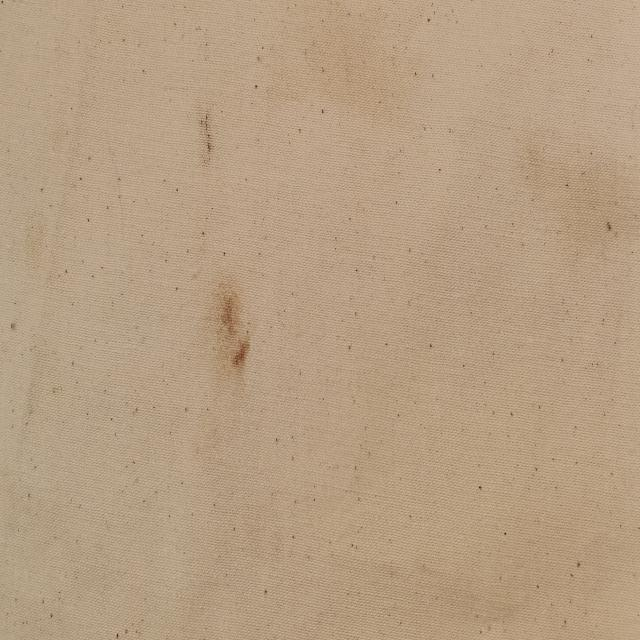taaaches: (204, 265, 254, 401), (194, 102, 218, 181)
